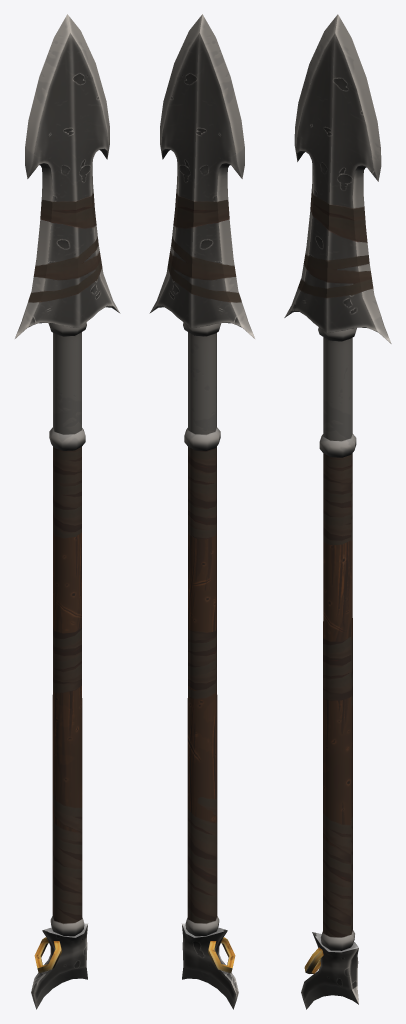
Rendered from Spear1H_Medium.fbx.
3 renders of one model, left to right at view 1: azimuth 30°, elevation 25°; view 2: azimuth 150°, elevation 25°; view 3: azimuth 330°, elevation 25°, orthographic.
Visible parts, largest first — view 1: Spear1H_Medium; view 2: Spear1H_Medium; view 3: Spear1H_Medium.
Part boxes in pixels (x1,y1,x2,y2): Spear1H_Medium: (15,14,120,1009); Spear1H_Medium: (149,14,254,1009); Spear1H_Medium: (284,14,391,1009).
Size of the model in its own units: 15.41 by 137 by 5.57.
Materials: 1 (1 with a texture image).
